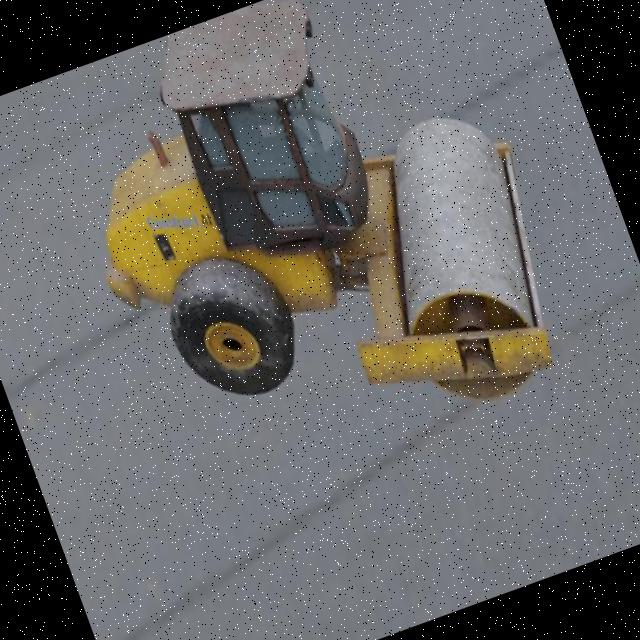Roller: (34, 0, 590, 512)
